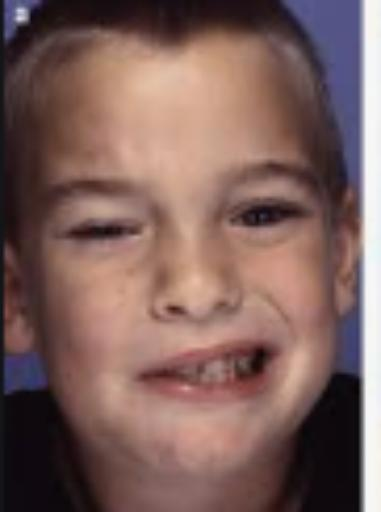left_eye: (226, 203, 308, 238)
left_lip_corner: (254, 338, 295, 367)
right_eye: (63, 219, 146, 251)
right_lip_corner: (117, 362, 158, 391)
